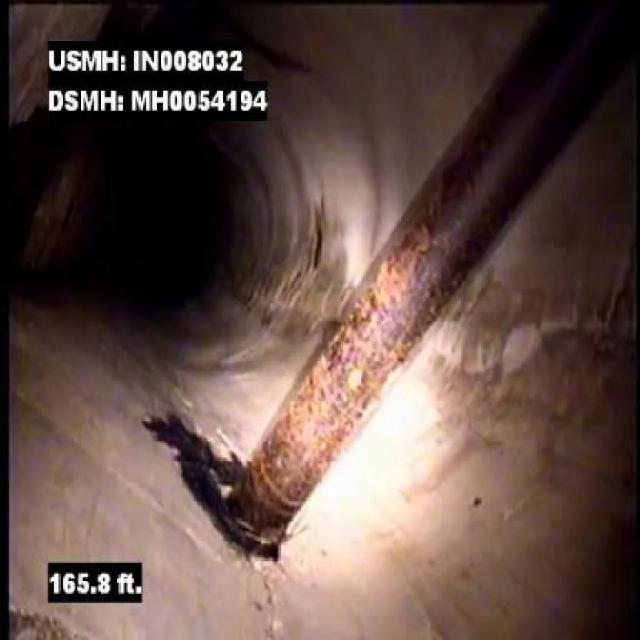Utility intrusion: (232, 119, 540, 556)
